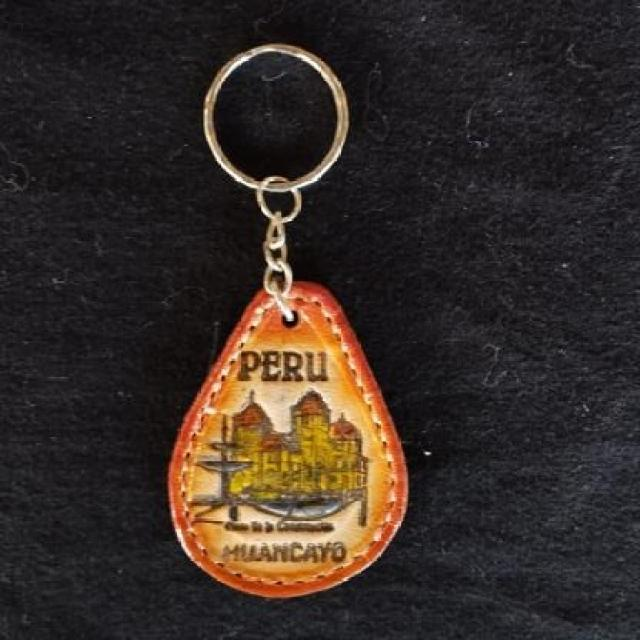Llavero: (166, 278, 409, 599)
